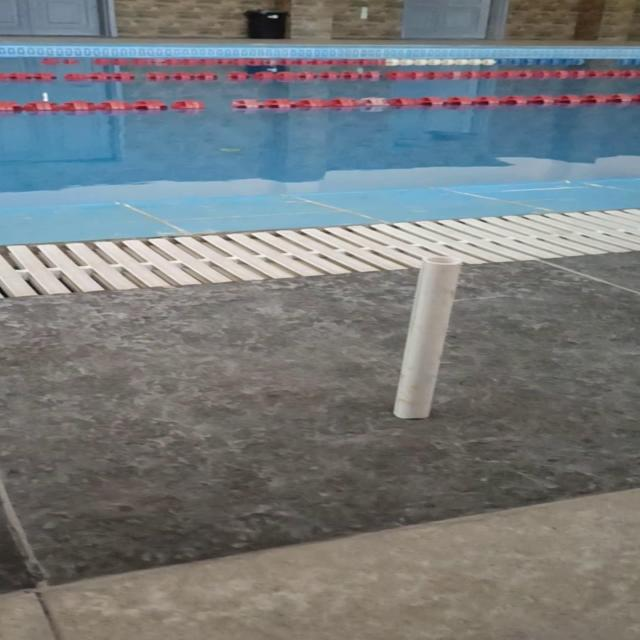Cube: (390, 255, 462, 419)
